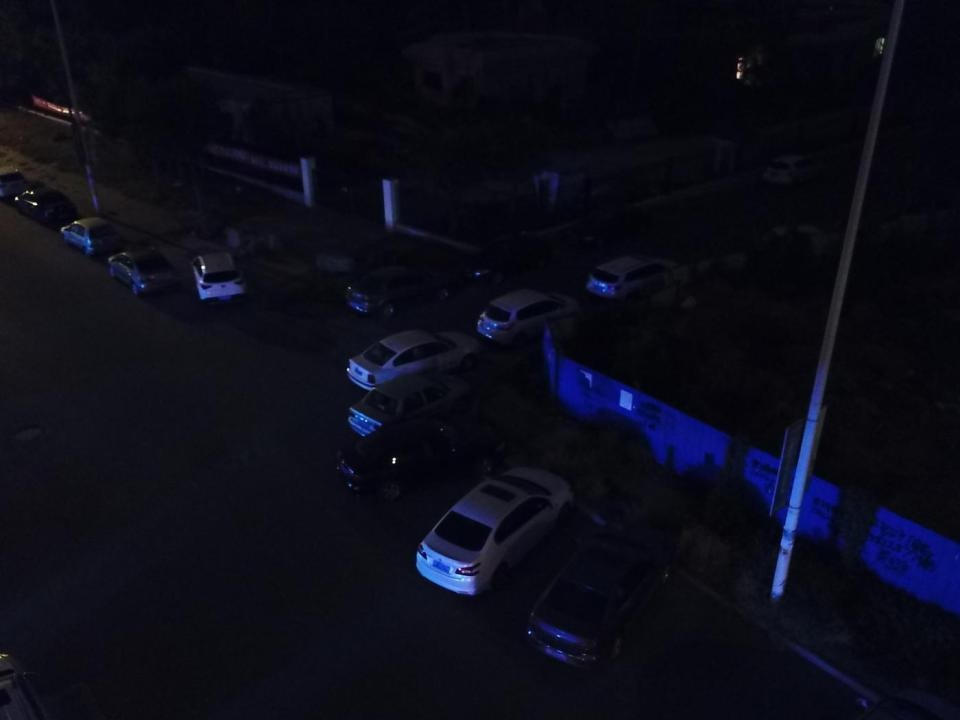car: (525, 522, 673, 668), (414, 466, 576, 598), (334, 418, 508, 502), (345, 370, 473, 440), (345, 329, 483, 392), (476, 289, 585, 348), (344, 265, 451, 315), (465, 237, 555, 284), (586, 255, 674, 300), (107, 247, 180, 297), (566, 206, 651, 248), (191, 250, 248, 306), (58, 215, 122, 255), (14, 186, 75, 223), (762, 154, 826, 185), (764, 223, 825, 245)
